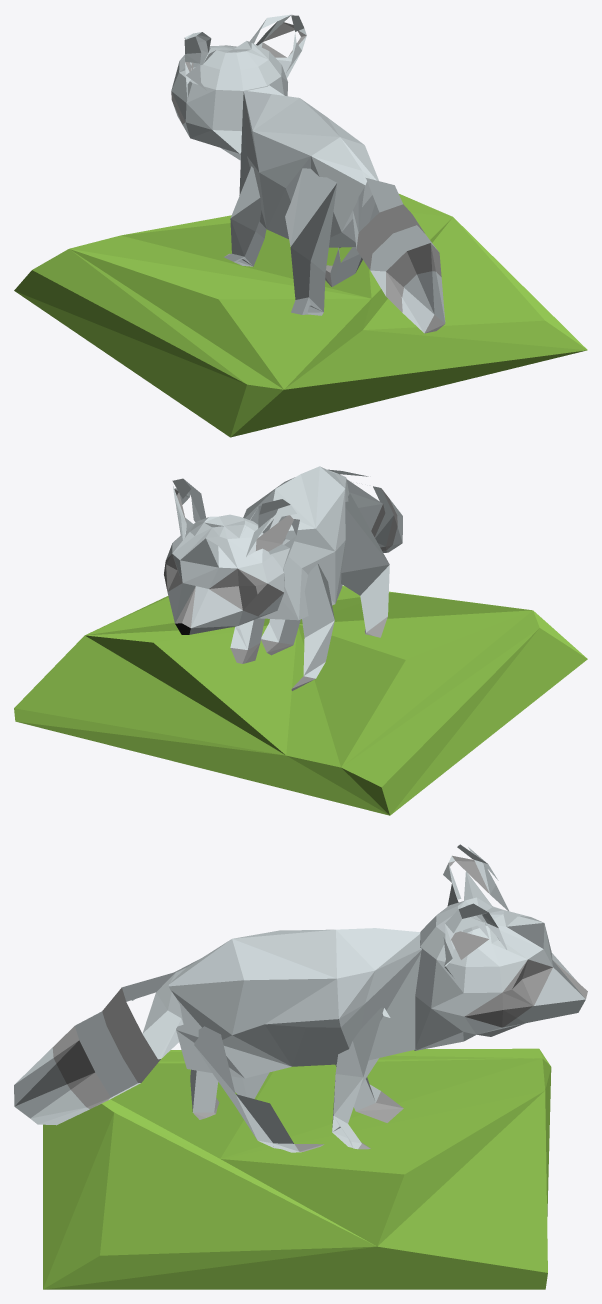
The model's file is racoon-jarlan-perez_4dAvYh8cBE0.glb.
3 views of the same model, one above another, from view 1: azimuth 30°, elevation 25°; view 2: azimuth 150°, elevation 25°; view 3: azimuth 270°, elevation 25° (orthographic). The views are drawn at different scales.
Visible parts, largest first — view 1: Node; view 2: Node; view 3: Node.
Boxes of the visible parts, <box> form: Node: <box>14,14,587,437</box>; Node: <box>14,466,587,815</box>; Node: <box>14,844,587,1289</box>.
Size of the model in its own units: 0.5577 by 0.3566 by 0.6051.
